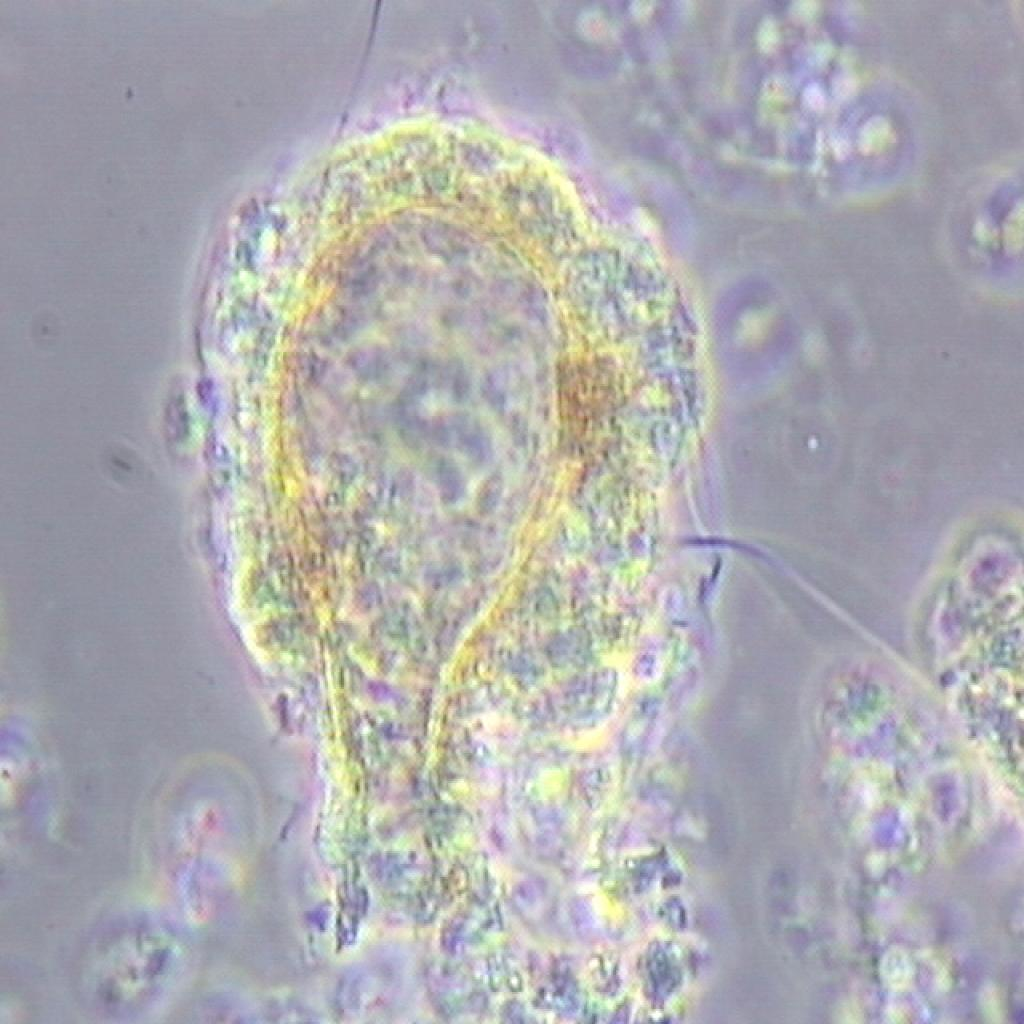Chaetopira: (187, 90, 650, 932)
